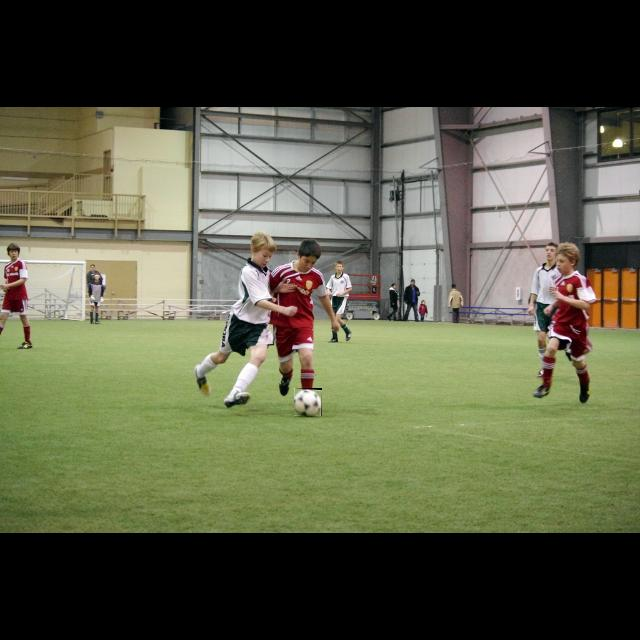Football: (294, 388, 322, 416)
